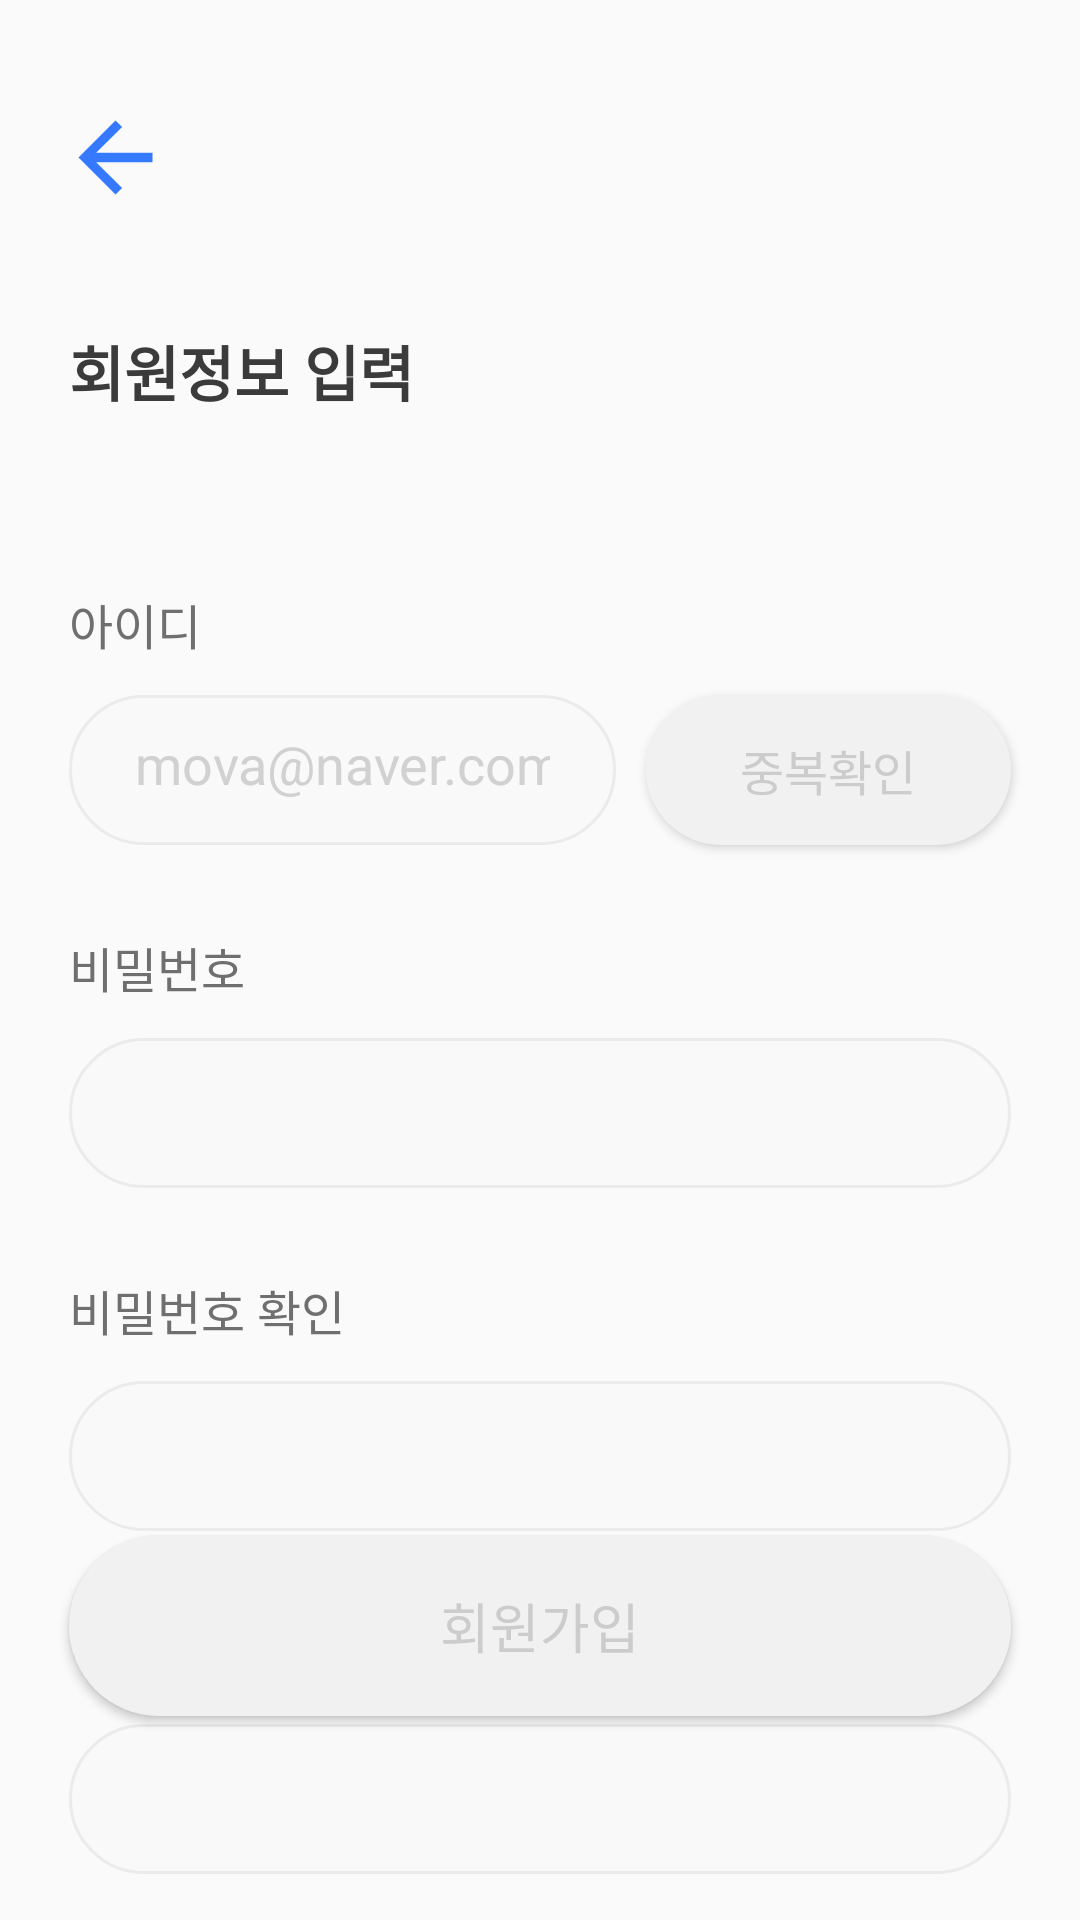

Named icons in this screenshot (1080x1920) and their bounding boxes, (x1, y1, x2, y2):
로그인 뒤로가기 버튼: (78, 120, 153, 195)
